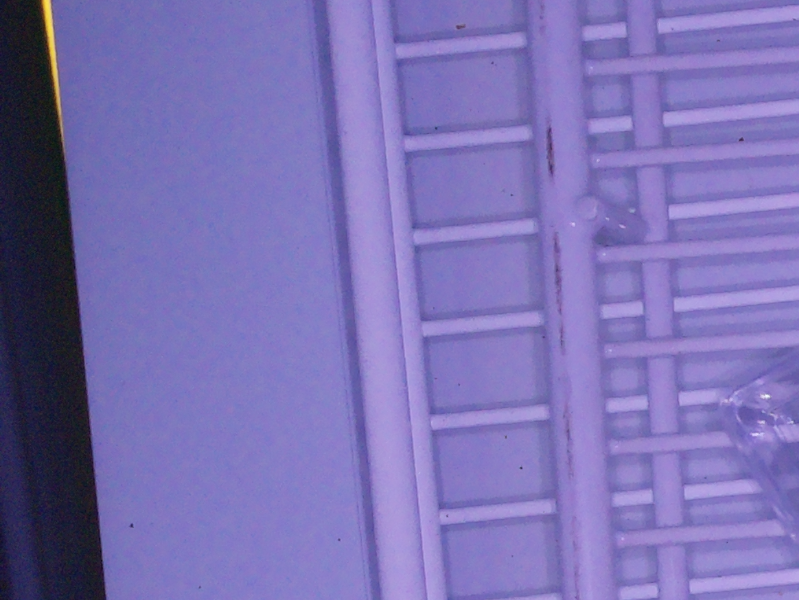plate: (717, 341, 799, 565)
